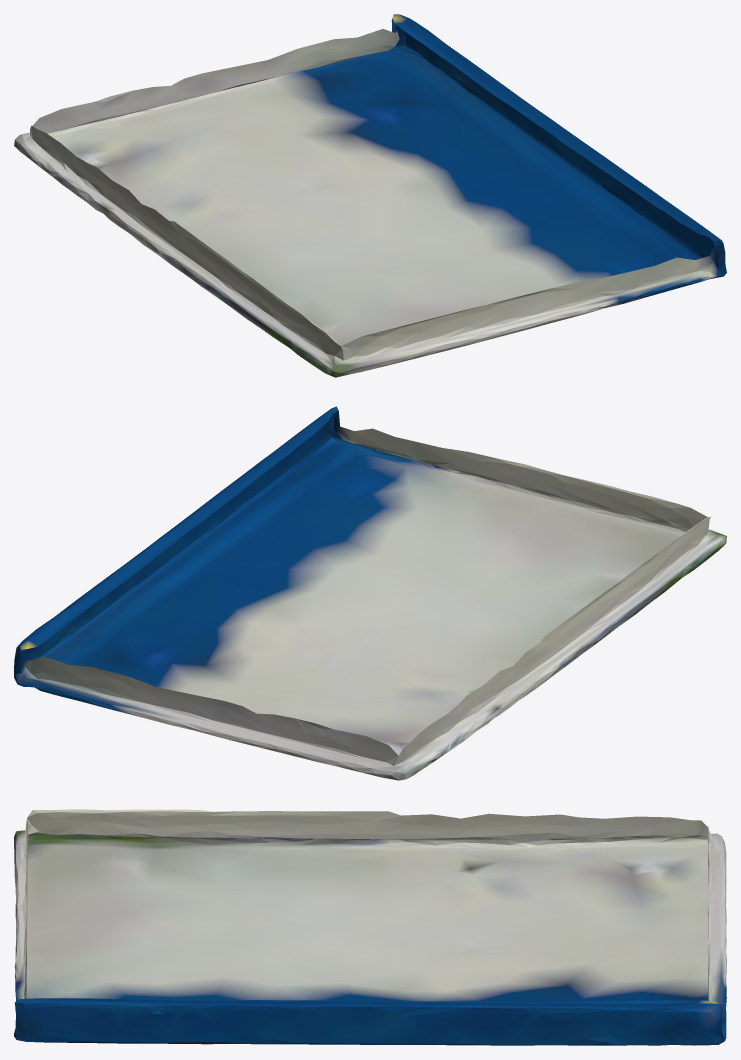
Rendered from scan.obj.
The picture shows the model from 3 angles, top to bottom: view 1: azimuth 30°, elevation 25°; view 2: azimuth 150°, elevation 25°; view 3: azimuth 270°, elevation 25°; orthographic projection. The views are drawn at different scales.
Parts seen in each view (by area): view 1: scan.ply; view 2: scan.ply; view 3: scan.ply.
Boxes of the visible parts, x1=… form: scan.ply: x1=14, y1=14, x2=726, y2=377; scan.ply: x1=14, y1=406, x2=726, y2=780; scan.ply: x1=14, y1=809, x2=726, y2=1045.
Size of the model in its own units: 0.1484 by 0.0181 by 0.21.
